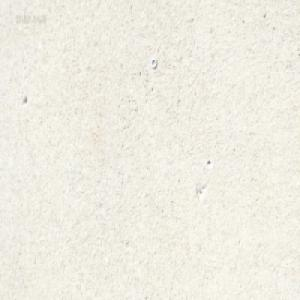Washer: (150, 57, 157, 69)
